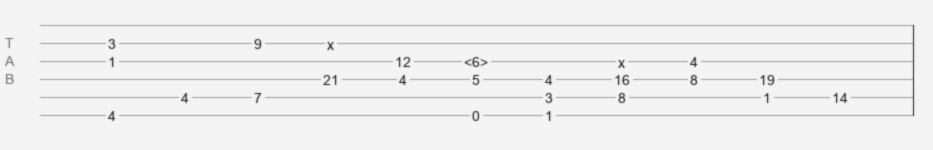0: (472, 108, 480, 118)
1: (108, 54, 116, 64), (545, 108, 553, 118), (763, 90, 771, 100)
12: (395, 54, 411, 64)
14: (832, 90, 848, 100)
16: (614, 72, 630, 82)
19: (759, 72, 775, 82)
21: (323, 72, 339, 82)
3: (108, 36, 116, 46), (545, 90, 553, 100)
4: (108, 108, 116, 118), (181, 90, 189, 100), (399, 72, 407, 82), (545, 72, 553, 82), (690, 54, 698, 64)
5: (472, 72, 480, 82)
7: (254, 90, 262, 100)
8: (618, 90, 626, 100), (690, 72, 698, 82)
9: (254, 36, 262, 46)
harmonic: (464, 54, 488, 64)
x: (327, 37, 334, 45), (618, 55, 625, 63)
